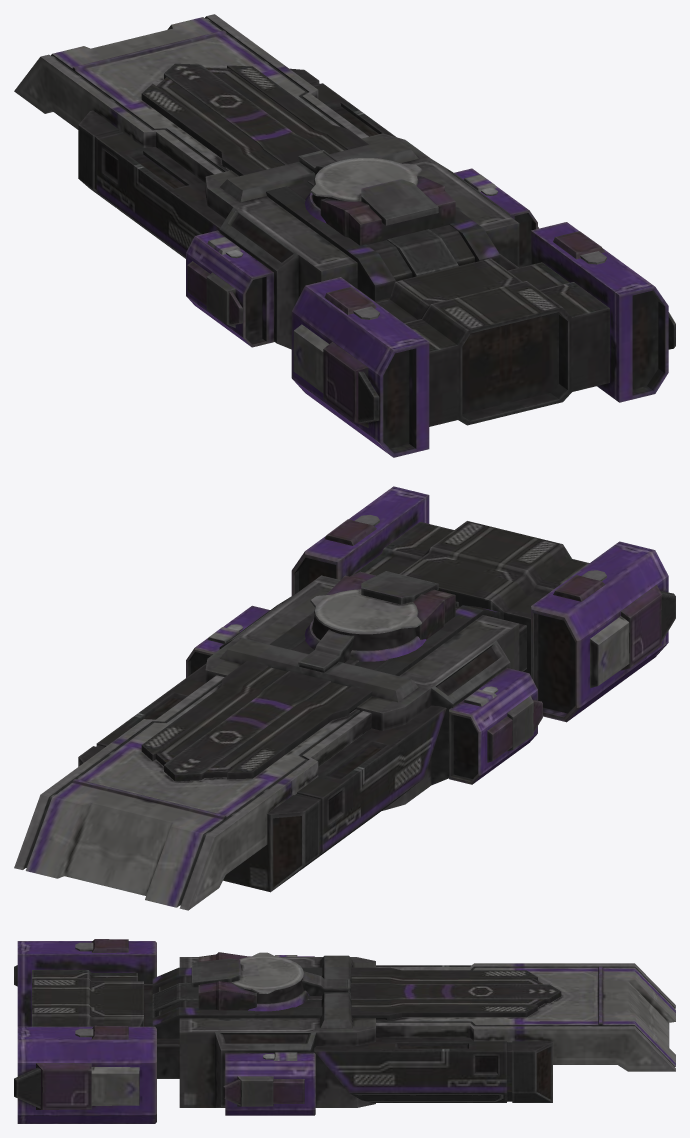
The model's file is imperial_purple.glb.
3 renders of one model, top to bottom at view 1: azimuth 30°, elevation 25°; view 2: azimuth 150°, elevation 25°; view 3: azimuth 270°, elevation 25°, orthographic. The views are drawn at different scales.
Parts seen in each view (by area): view 1: imperial_purple; view 2: imperial_purple; view 3: imperial_purple.
Part boxes in pixels (x1,y1,x2,y2): imperial_purple: (14,14,675,457); imperial_purple: (14,486,675,910); imperial_purple: (14,939,675,1123).
Bounding box in the file's own units: 0.4167 × 0.1781 × 1.
Materials: 1 (1 with a texture image).
